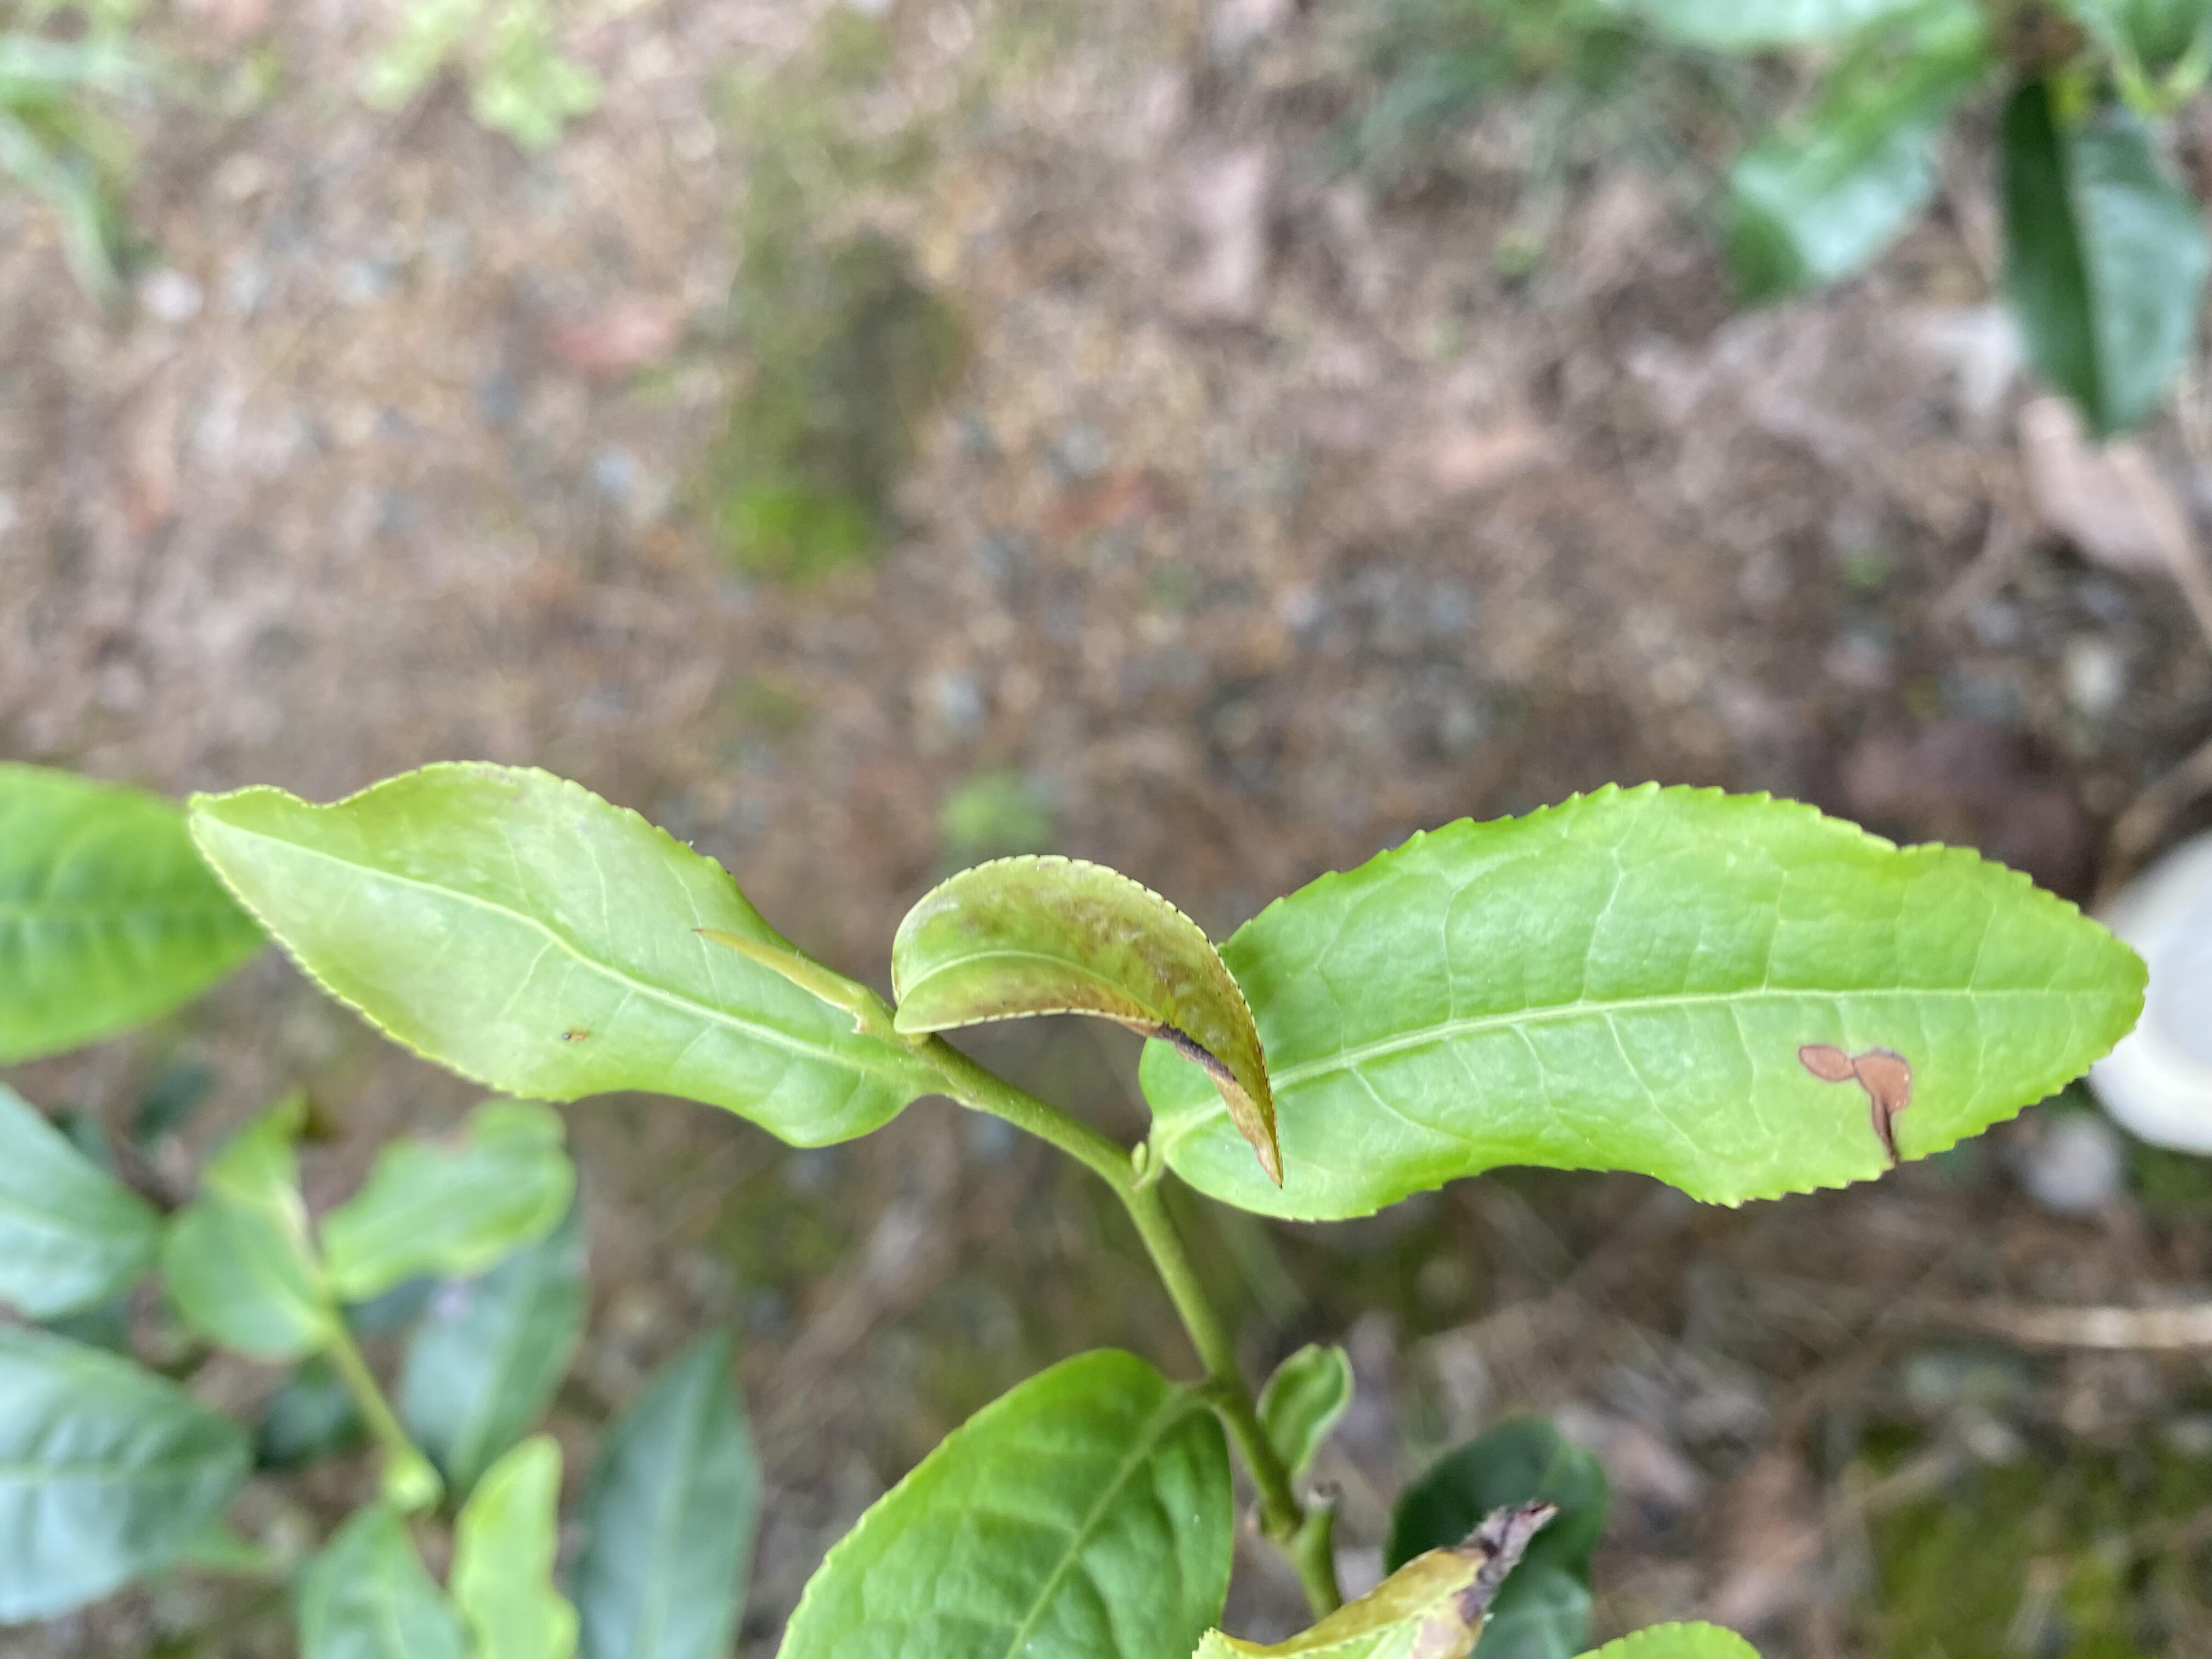tanju_high: (1137, 779, 2149, 1230), (1186, 1497, 1562, 1656)
tanju_low: (183, 756, 894, 1155), (892, 850, 1285, 1190)
